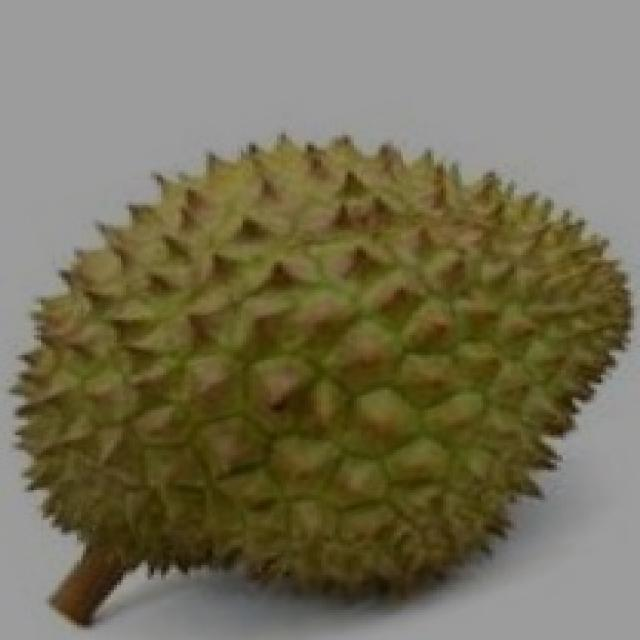fruit: (289, 218, 640, 638), (0, 235, 360, 633)
